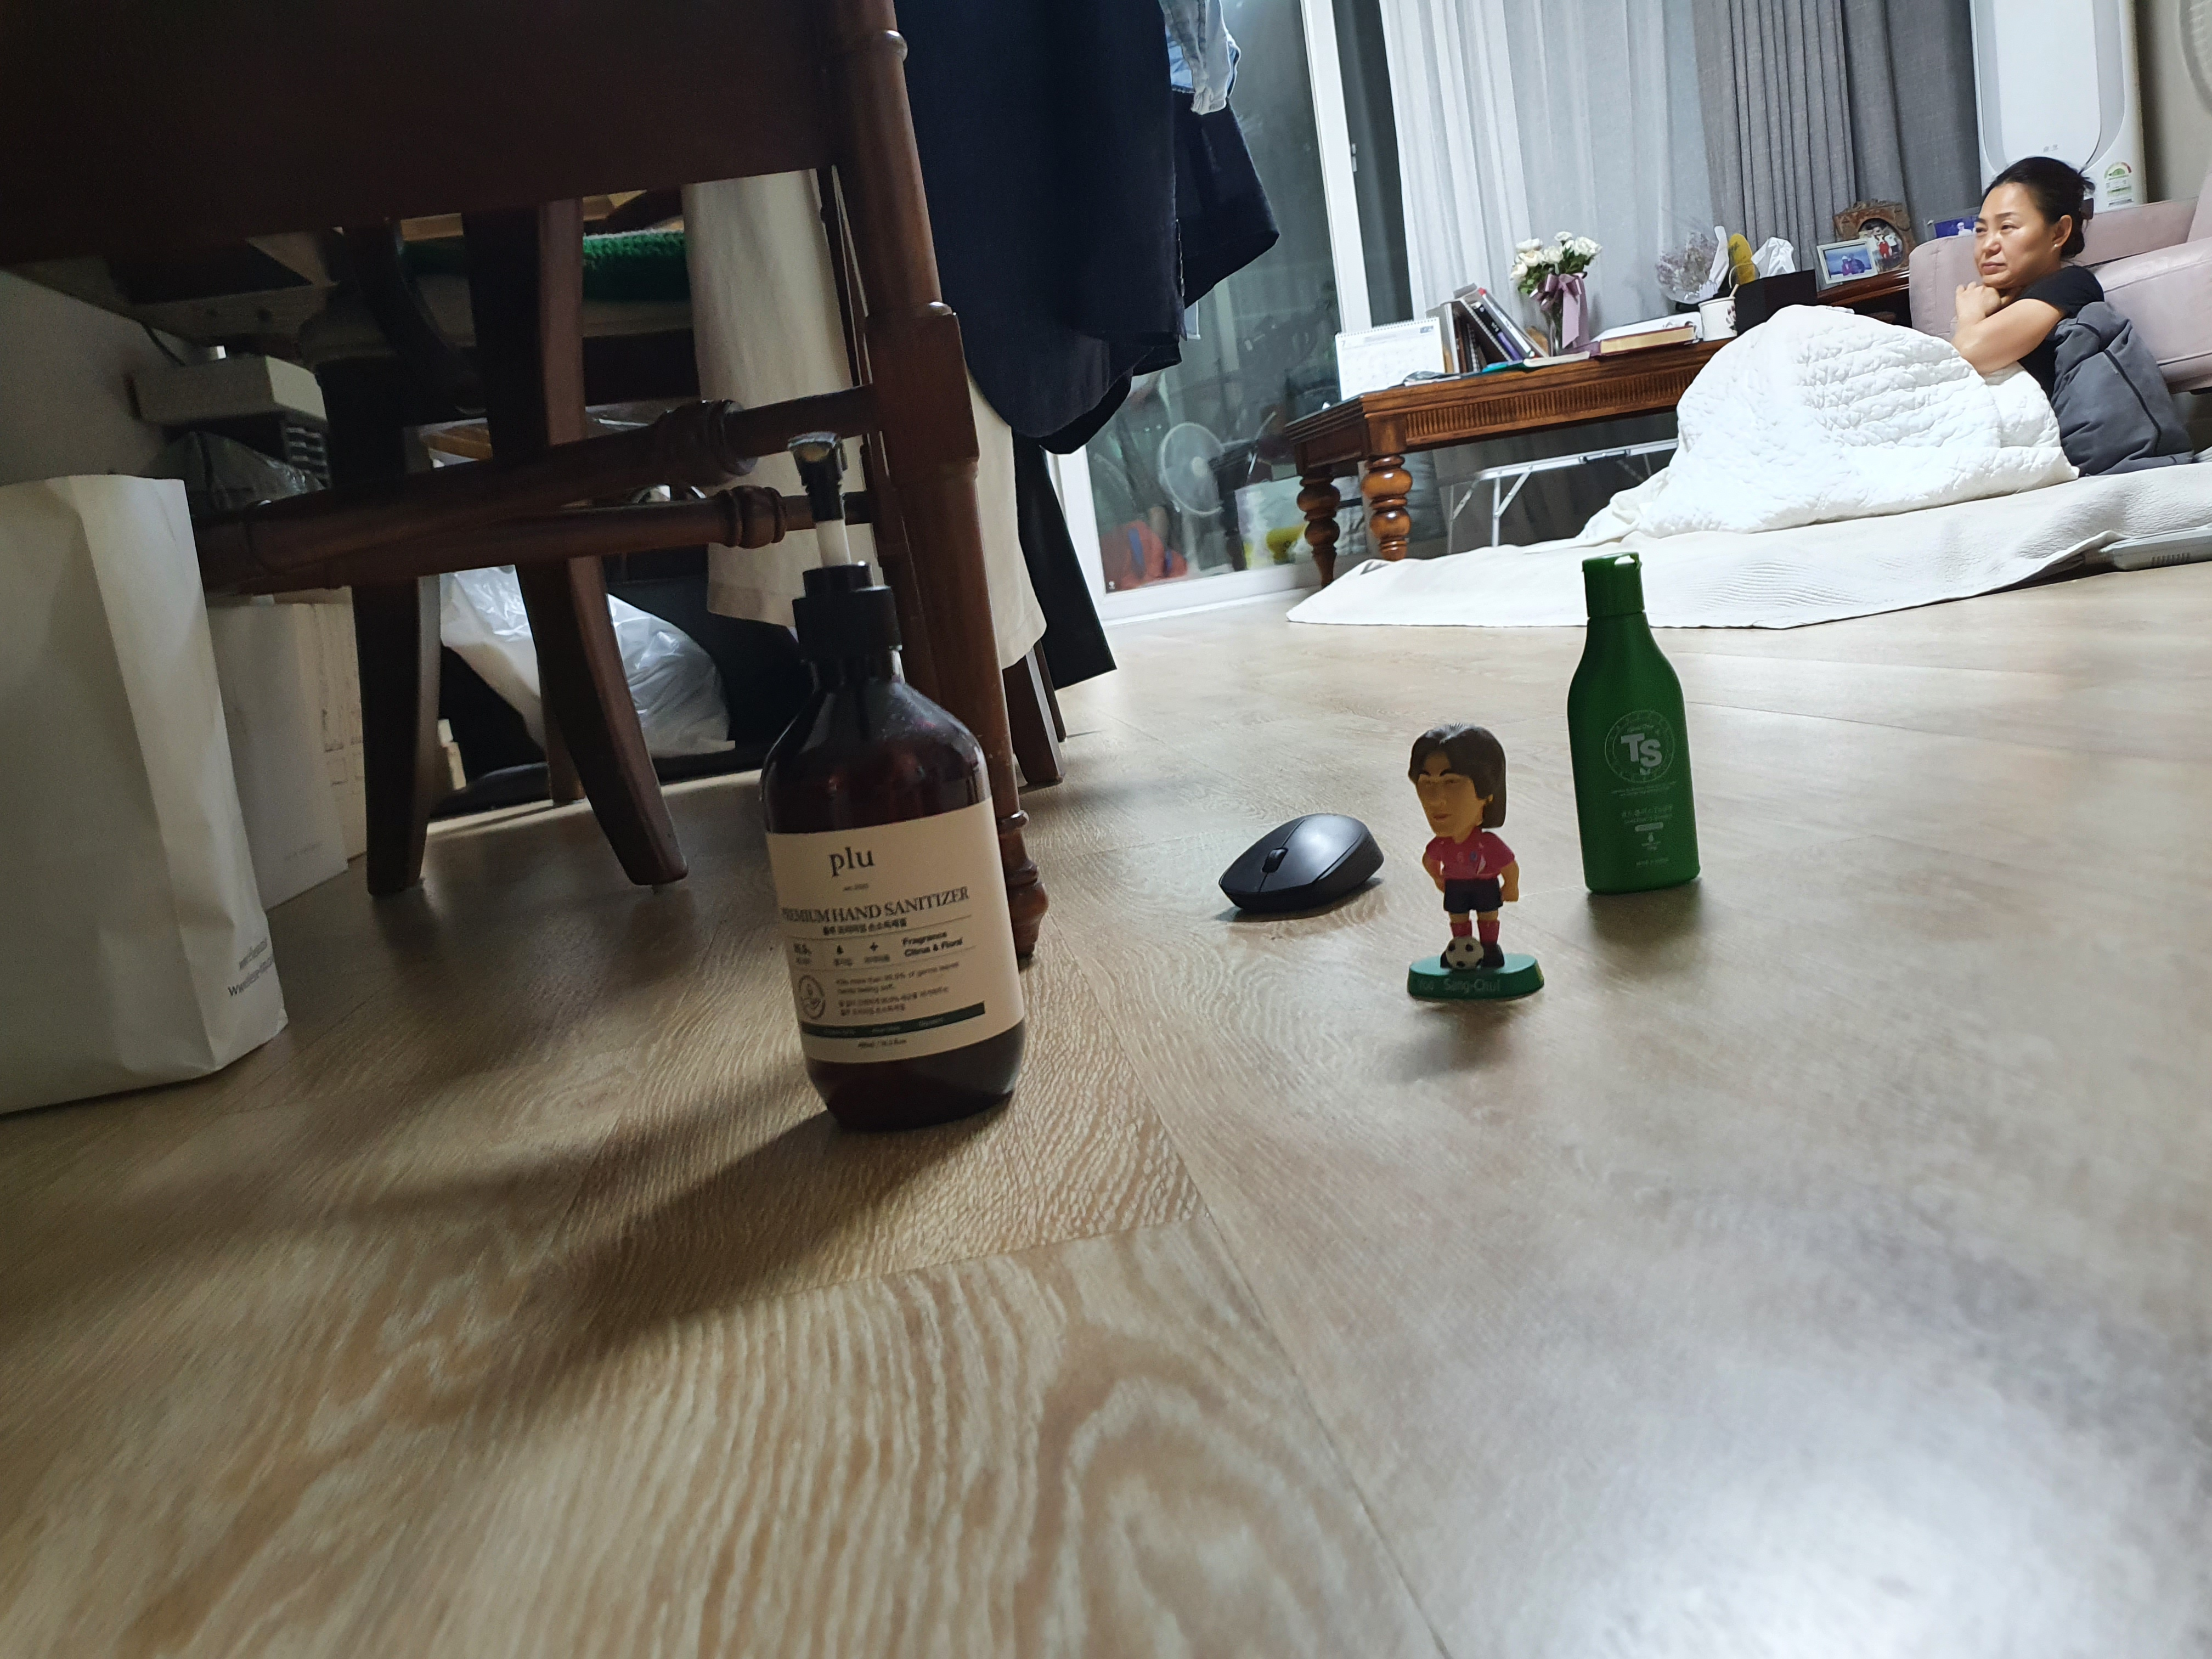bottle: (629, 408, 1092, 1176)
mouse: (1160, 760, 1411, 934)
shampoo: (1543, 533, 1775, 910)
yoo: (1353, 685, 1564, 1053)
